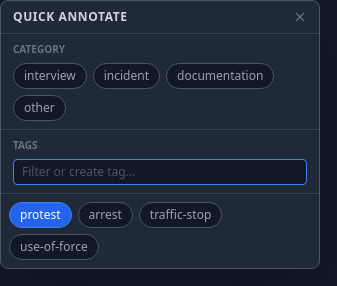
Scenario: QuickTagMenu › shows create prompt when filter matches no existing tags
This screenshot has width=337, height=286.
Expected: the button "protest" is shown, [9,202,72,228]
Type "zzzznotag" into the field with placeholder "Filter or create tag...".
click(160, 172); type("zzzznotag")  # box [13,159,307,185]
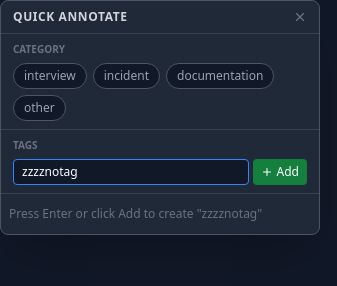
Now the text "Press Enter or click Add to create \"zzzznotag\"" is shown, box [9,202,262,226]
